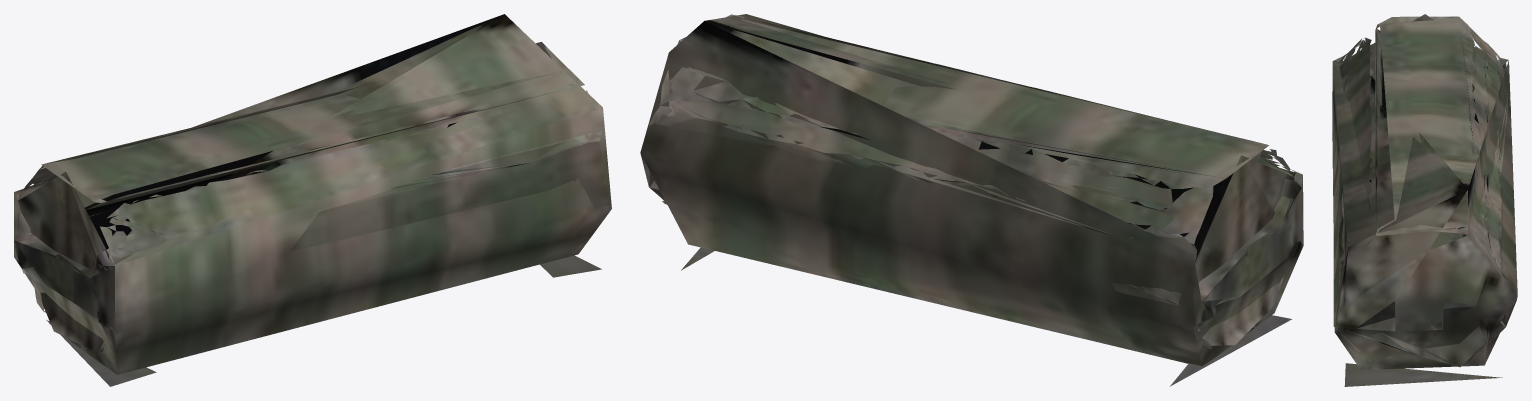
The model's file is barrier_1314743077_lod0m.glb.
The picture shows the model from 3 angles, left to right: view 1: azimuth 30°, elevation 25°; view 2: azimuth 150°, elevation 25°; view 3: azimuth 270°, elevation 25°; orthographic projection. The views are drawn at different scales.
Bounding box in the file's own units: 3.01 × 1.2 × 1.06.
Materials: 1 (1 with a texture image).
